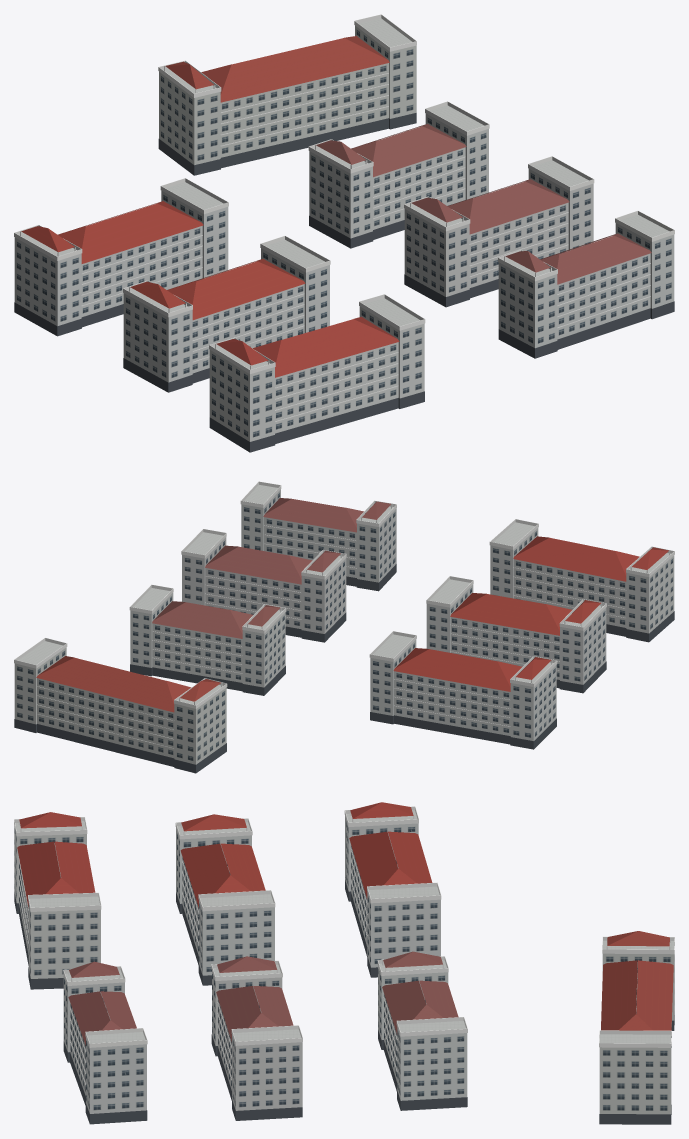
The model's file is dorm_wenyuan_b3.glb.
3 views of the same model, one above another, from view 1: azimuth 30°, elevation 25°; view 2: azimuth 150°, elevation 25°; view 3: azimuth 270°, elevation 25° (orthographic). The views are drawn at different scales.
Parts seen in each view (by area): view 1: 862959385, 862959371, 862959369, 862959370, 862959374, 862959373, 862959372; view 2: 862959385, 862959369, 862959371, 862959370, 862959372, 862959373, 862959374; view 3: 862959385, 862959371, 862959369, 862959370, 862959373, 862959372, 862959374.
Part boxes in pixels (<box>): 862959385: <box>158,14,416,175</box>; 862959371: <box>209,294,425,452</box>; 862959369: <box>14,178,228,336</box>; 862959370: <box>123,236,330,392</box>; 862959374: <box>498,210,674,358</box>; 862959373: <box>404,156,594,307</box>; 862959372: <box>308,101,489,248</box>; 862959385: <box>14,637,227,773</box>; 862959369: <box>369,631,557,749</box>; 862959371: <box>489,519,674,642</box>; 862959370: <box>426,576,606,693</box>; 862959372: <box>129,584,286,695</box>; 862959373: <box>181,529,346,642</box>; 862959374: <box>240,481,396,591</box>; 862959385: <box>599,931,674,1124</box>; 862959371: <box>14,812,101,989</box>; 862959369: <box>344,802,441,977</box>; 862959370: <box>175,814,275,985</box>; 862959373: <box>211,956,302,1120</box>; 862959372: <box>377,951,467,1110</box>; 862959374: <box>63,961,147,1124</box>.
Size of the model in its own units: 152 by 27.8 by 177.
Materials: 4 (3 with a texture image).
